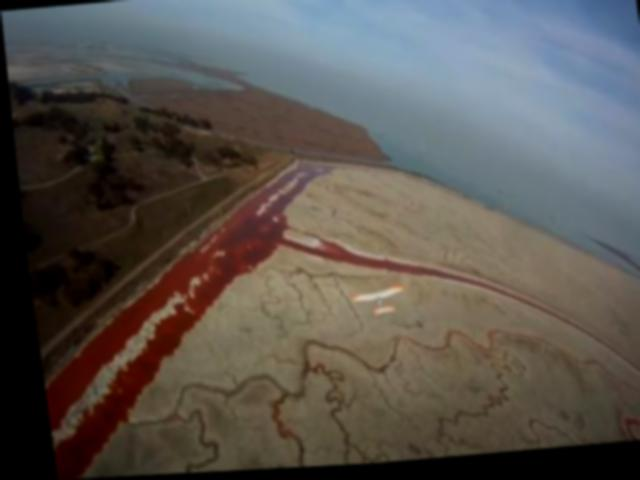uav: (341, 283, 406, 328)
